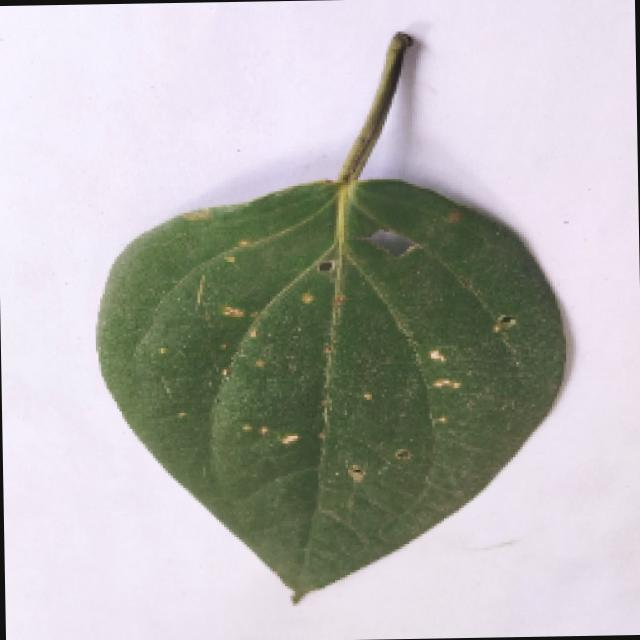pollu-disease: (92, 38, 578, 611)
